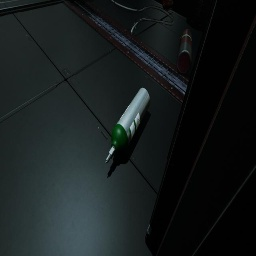0: (105, 88, 150, 164)
FireExtinguisher ]: (160, 0, 173, 11)
NitrogenTank ,: (176, 29, 192, 74)
